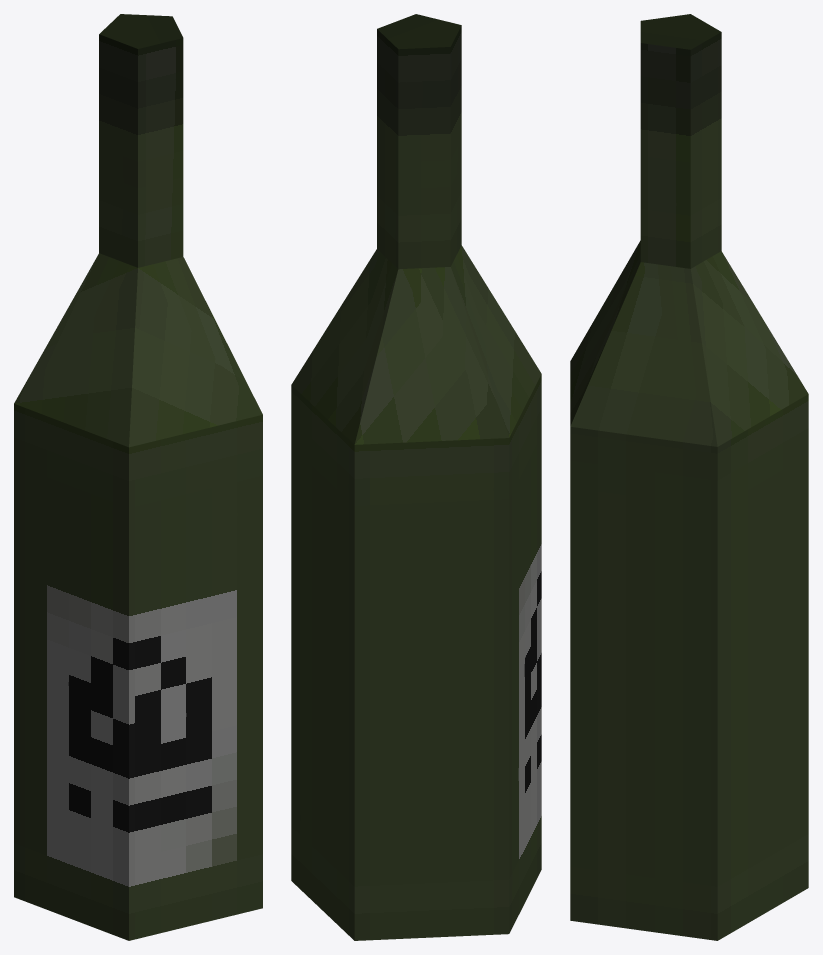
The model's file is Bottle03.obj.
3 views of the same model, side by side, from view 1: azimuth 30°, elevation 25°; view 2: azimuth 150°, elevation 25°; view 3: azimuth 270°, elevation 25° (orthographic).
Parts seen in each view (by area): view 1: Bottle03; view 2: Bottle03; view 3: Bottle03.
Boxes of the visible parts, x1,y1,x2,y2 form: Bottle03: [14, 14, 262, 940]; Bottle03: [291, 14, 541, 940]; Bottle03: [570, 14, 808, 940].
Size of the model in its own units: 0.1482 by 0.5586 by 0.1409.
